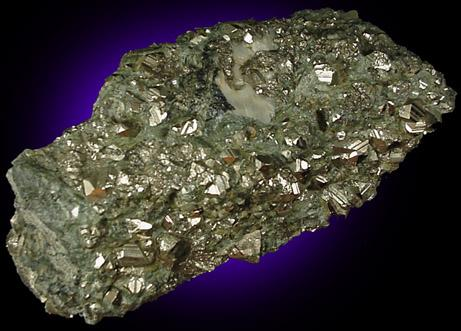pyrite: (215, 33, 278, 124), (293, 61, 352, 132), (332, 128, 408, 166), (378, 100, 438, 134), (321, 181, 380, 214), (264, 171, 307, 210), (200, 171, 234, 203), (231, 231, 262, 260), (242, 175, 260, 196), (354, 83, 376, 100), (307, 176, 331, 190)
